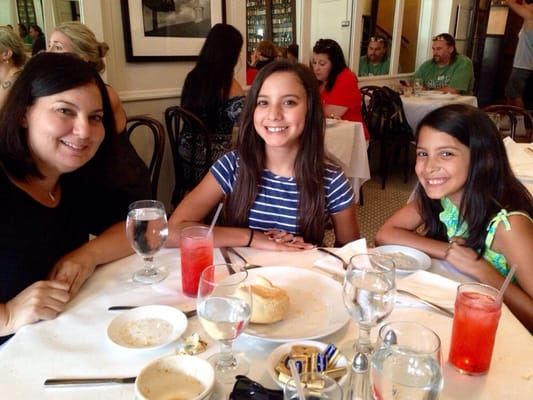pizza: (371, 321, 444, 400), (448, 281, 505, 376), (179, 225, 213, 297)
sushi: (135, 354, 215, 400)
